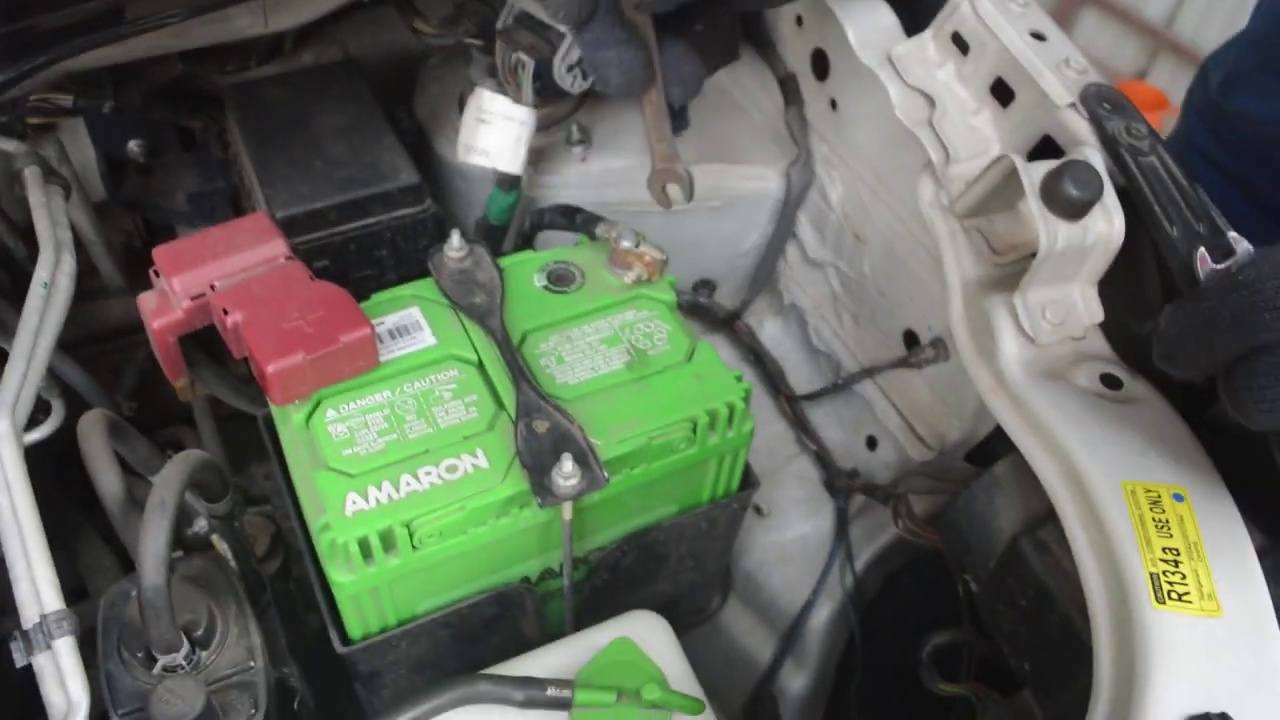battery: (276, 199, 733, 581)
neg_connected: (564, 187, 668, 302)
pos_connected: (192, 205, 396, 407)
